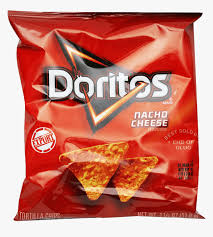Doritos: (23, 16, 203, 207)
